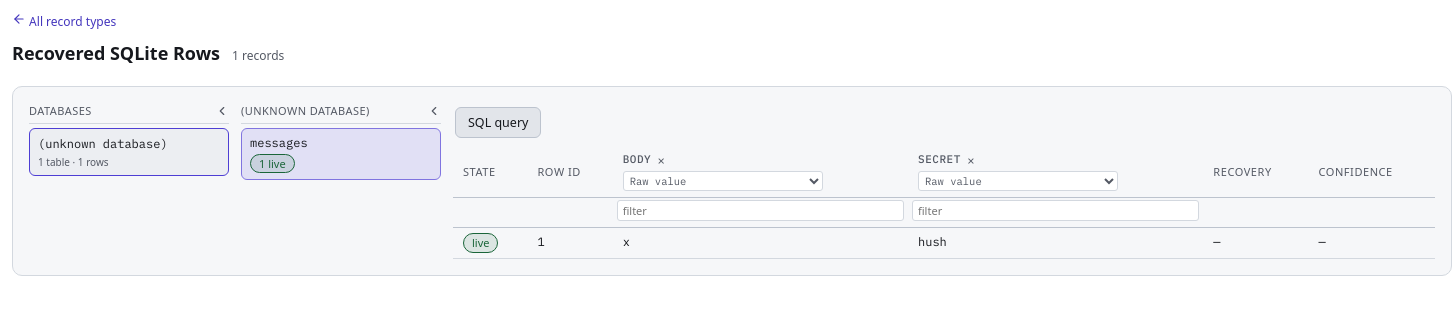
Scenario: SqliteViewer power tools › hides and restores a column
This screenshot has width=1452, height=322.
Expected: the text "hush" is shown, [908, 228, 1203, 259]
Click the button named "Hide column secret".
click(971, 160)  # box [965, 154, 977, 167]
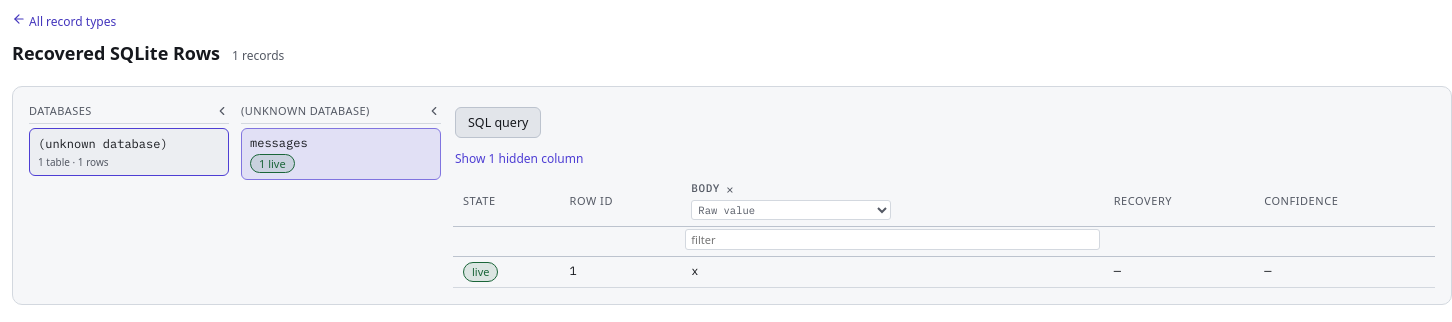
Result: the text "hush" is gone
Click the button "Show 1 hidden column".
click(519, 159)  # box [455, 150, 583, 168]
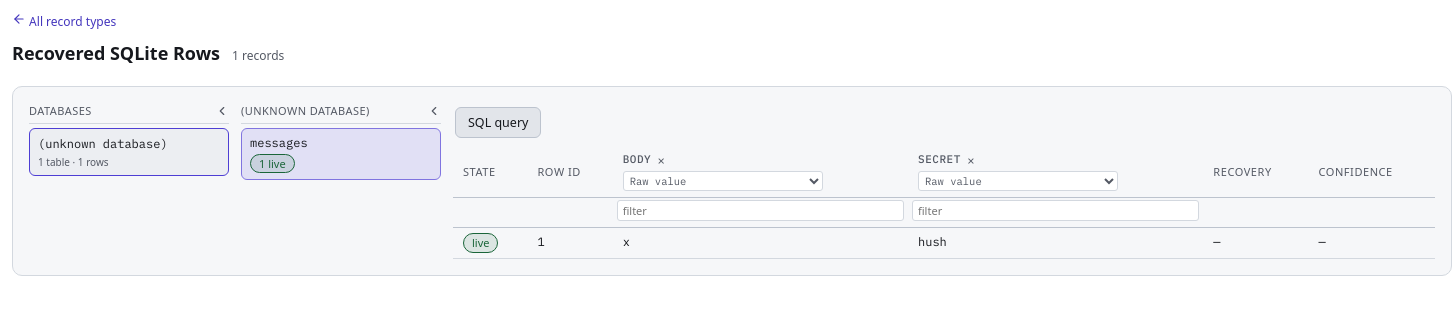
Result: the text "hush" is shown at [908, 228, 1203, 259]
